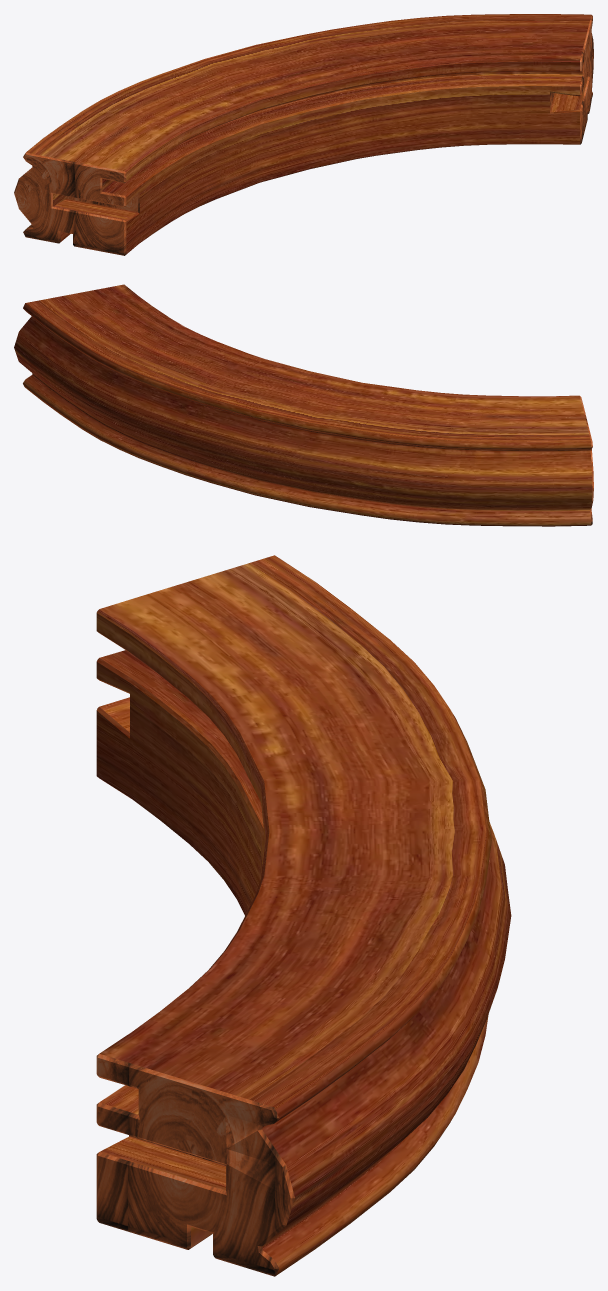
The model's file is YuanDeng_J_D_biankuang_008.FBX.
3 views of the same model, one above another, from view 1: azimuth 30°, elevation 25°; view 2: azimuth 150°, elevation 25°; view 3: azimuth 270°, elevation 25° (orthographic). The views are drawn at different scales.
Parts seen in each view (by area): view 1: YuanDeng_J_D_biankuang_008; view 2: YuanDeng_J_D_biankuang_008; view 3: YuanDeng_J_D_biankuang_008.
Part boxes in pixels (x1=…): YuanDeng_J_D_biankuang_008: x1=14, y1=14, x2=593, y2=255; YuanDeng_J_D_biankuang_008: x1=14, y1=284, x2=593, y2=526; YuanDeng_J_D_biankuang_008: x1=96, y1=555, x2=511, y2=1276.
Bounding box in the file's own units: 25.08 × 3.58 × 7.77.
Materials: 2 (2 with a texture image).
